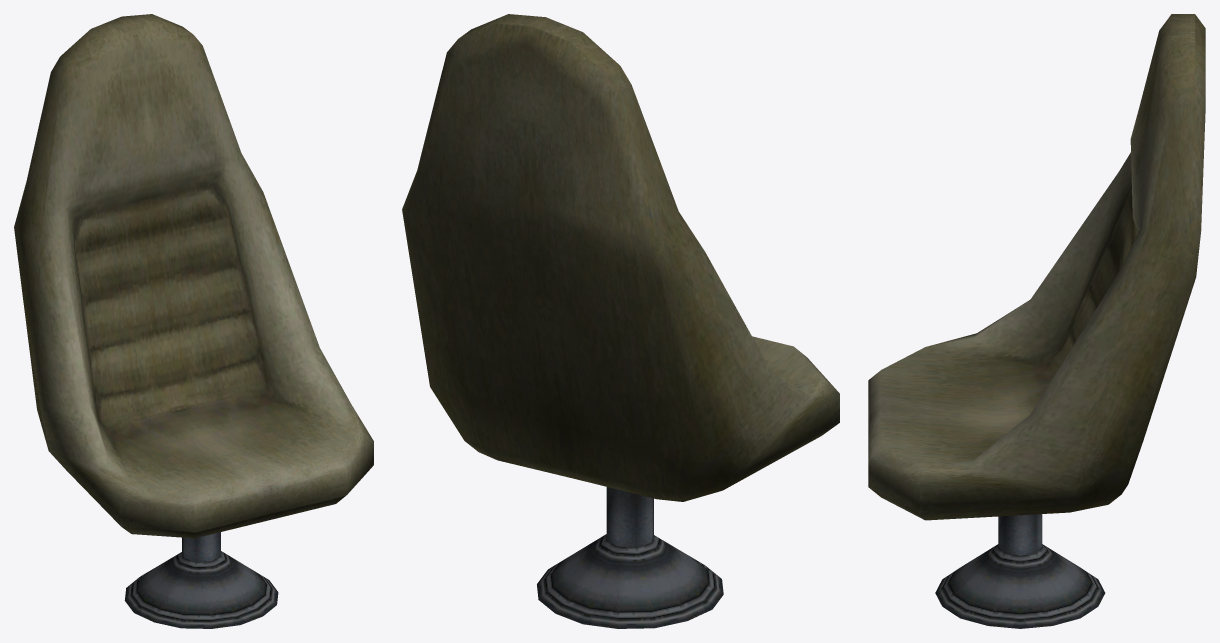
The model's file is frn_spc_chair_pilot_s01_l0.fbx.
The picture shows the model from 3 angles, left to right: view 1: azimuth 30°, elevation 25°; view 2: azimuth 150°, elevation 25°; view 3: azimuth 270°, elevation 25°; orthographic projection. The views are drawn at different scales.
Visible parts, largest first — view 1: mesh_node; view 2: mesh_node; view 3: mesh_node.
Part boxes in pixels (<box>): mesh_node: <box>14,14,373,628</box>; mesh_node: <box>402,14,839,628</box>; mesh_node: <box>868,14,1205,628</box>.
Bounding box in the file's own units: 0.6499 × 1.22 × 0.6592.
